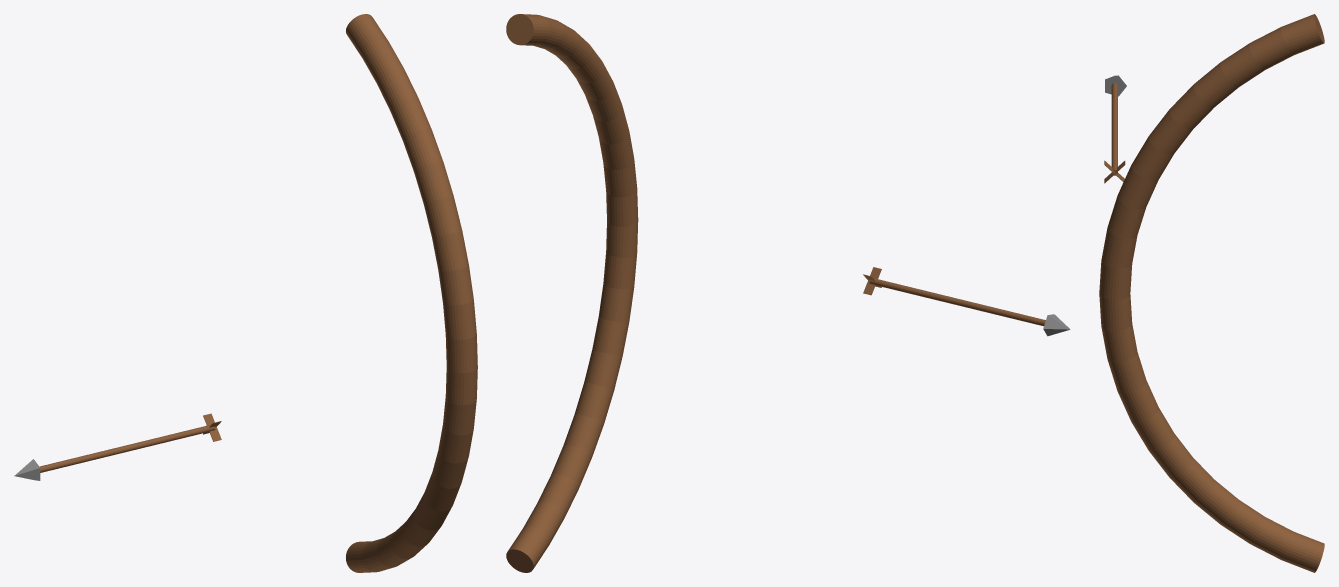
Rendered from ShittyBowAndArrowWizardGame.fbx.
3 renders of one model, left to right at view 1: azimuth 30°, elevation 25°; view 2: azimuth 150°, elevation 25°; view 3: azimuth 270°, elevation 25°, orthographic.
Visible parts, largest first — view 1: Cylinder, Cone; view 2: Cylinder, Cone; view 3: Cylinder, Cone.
Part boxes in pixels (x1,y1,x2,y2): Cylinder: (346, 14, 477, 572); Cone: (14, 413, 221, 480); Cylinder: (506, 14, 638, 572); Cone: (863, 267, 1070, 336); Cylinder: (1099, 14, 1324, 572); Cone: (1104, 75, 1126, 183).
Bounding box in the file's own units: 494 × 571 × 210.
